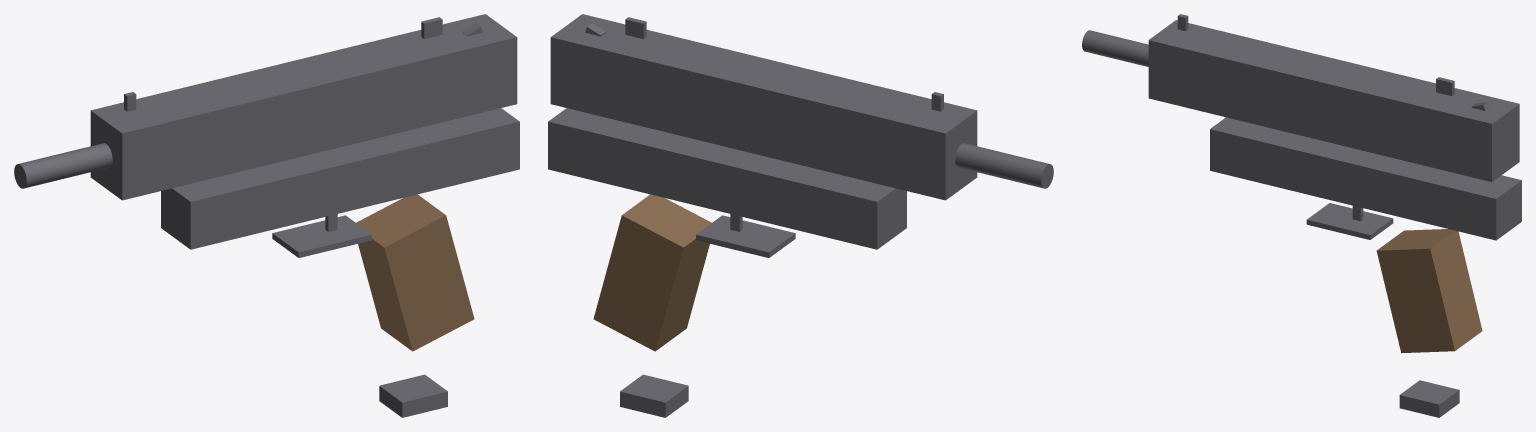
File: weapon_pistol_m1911_lod0.gltf
The picture shows the model from 3 angles, left to right: view 1: azimuth 30°, elevation 25°; view 2: azimuth 150°, elevation 25°; view 3: azimuth 330°, elevation 25°; orthographic projection. The views are drawn at different scales.
Visible parts, largest first — view 1: weapon_pistol_m1911; view 2: weapon_pistol_m1911; view 3: weapon_pistol_m1911.
Boxes of the visible parts, x1=… form: weapon_pistol_m1911: x1=14, y1=14, x2=519, y2=417; weapon_pistol_m1911: x1=548, y1=14, x2=1053, y2=417; weapon_pistol_m1911: x1=1082, y1=14, x2=1521, y2=417.
Size of the model in its own units: 0.265 by 0.198 by 0.03.
